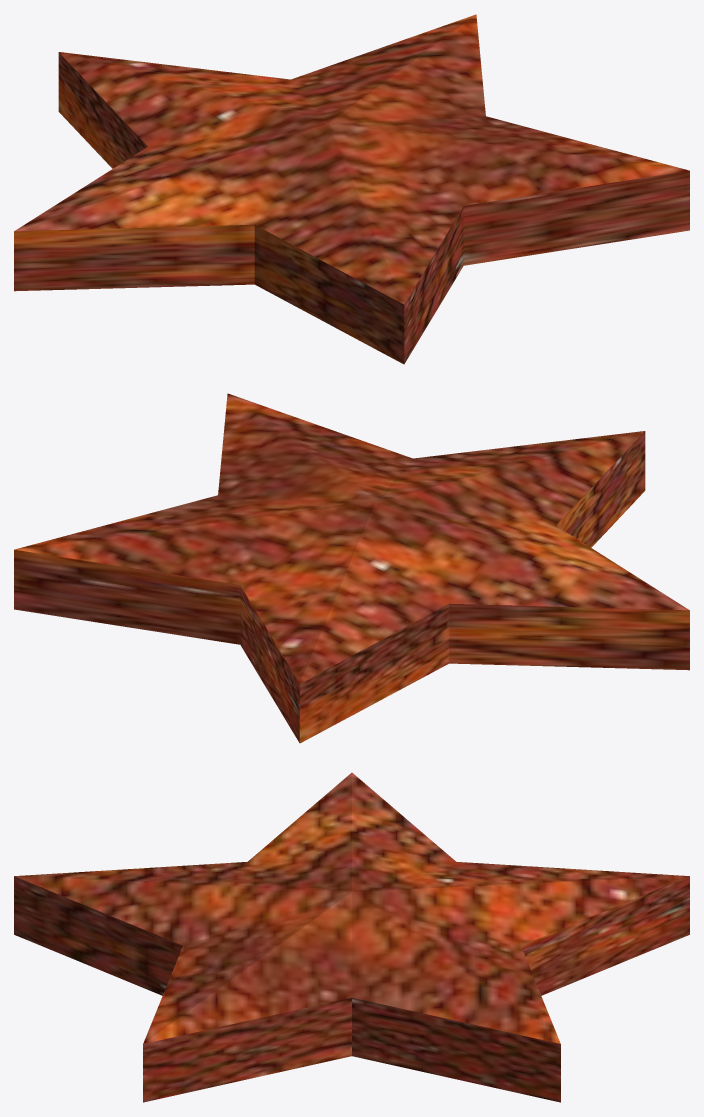
Rendered from estrella.fbx.
3 renders of one model, top to bottom at view 1: azimuth 30°, elevation 25°; view 2: azimuth 150°, elevation 25°; view 3: azimuth 270°, elevation 25°, orthographic. The views are drawn at different scales.
Visible parts, largest first — view 1: Star; view 2: Star; view 3: Star.
Boxes of the visible parts, box(x1,y1,x2,y2) form: Star: box(14, 14, 689, 364); Star: box(14, 393, 689, 743); Star: box(14, 772, 689, 1102).
Size of the model in its own units: 181 by 34.04 by 190.
Materials: 1 (1 with a texture image).
